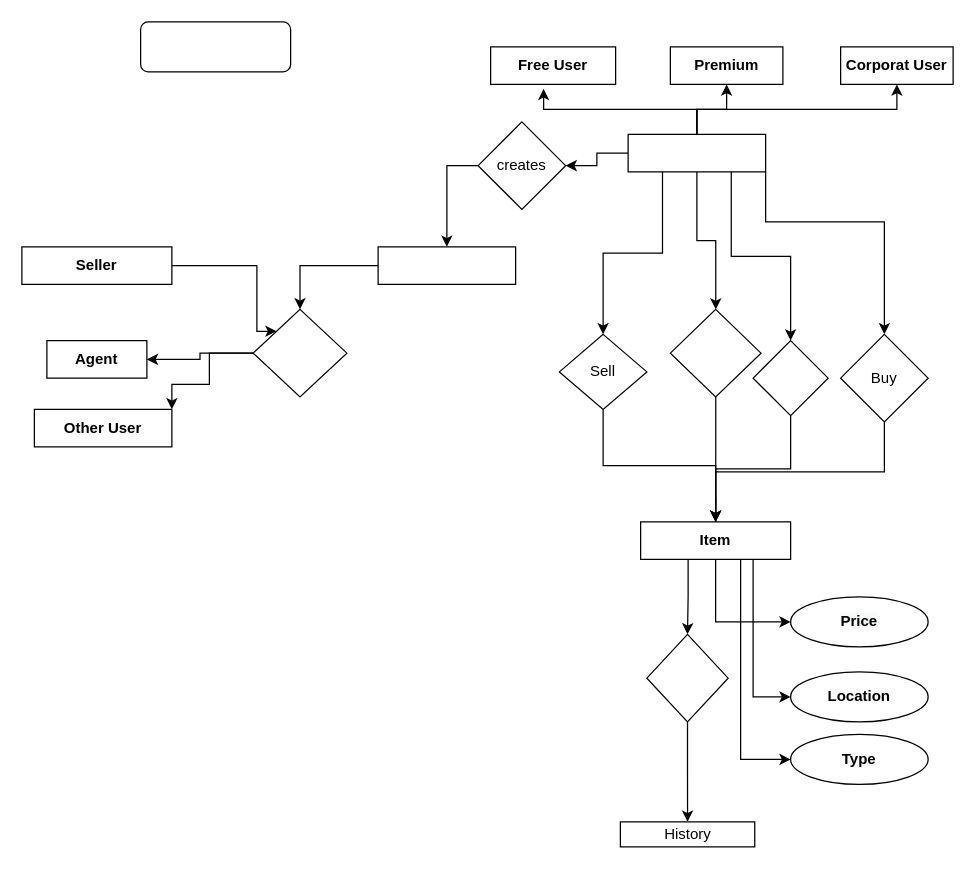
The diagram is 975 pixels wide and 869 high, and some of its shapes have lost their labels. The centre of each missing label's shape, as x and y in pixels:
"Account" goes at (x=446, y=265).
"Browse" goes at (x=715, y=352).
"message" goes at (x=299, y=352).
"Online E-Com Store WorstBuy" goes at (x=215, y=46).
"Rent" goes at (x=790, y=377).
"stored" goes at (x=687, y=677).
"User" goes at (x=696, y=152).
